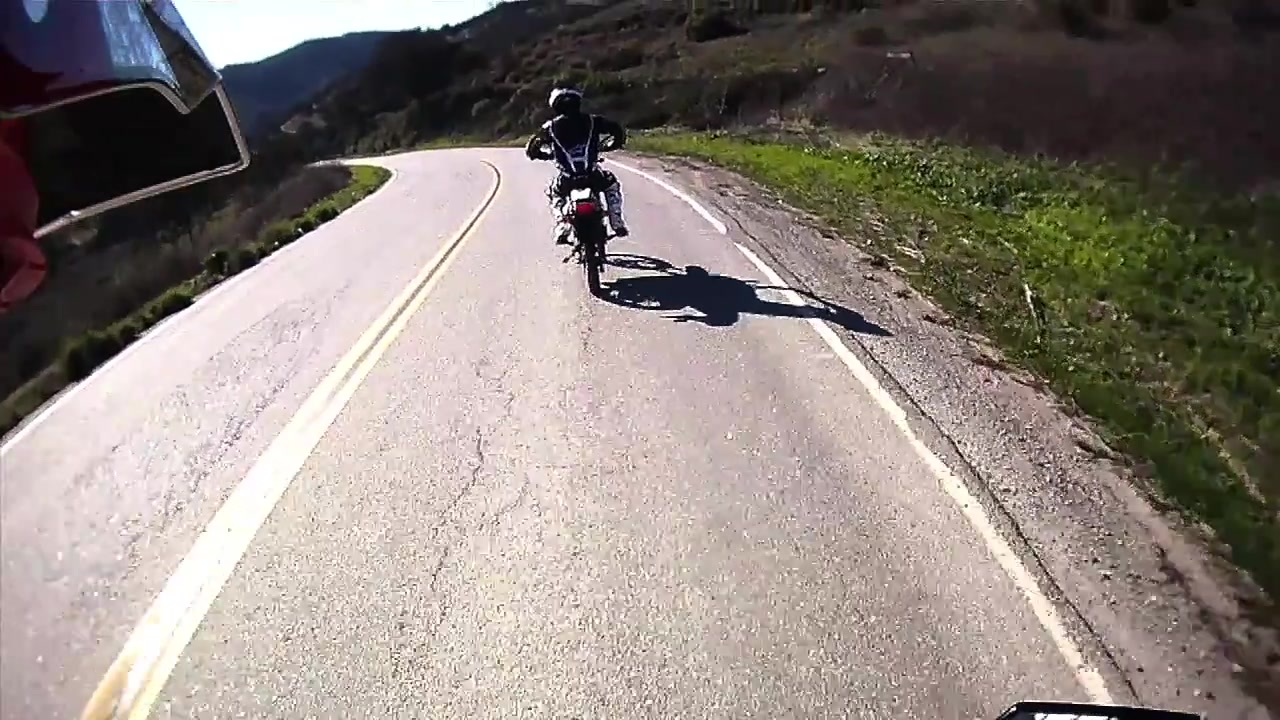motorbike: (530, 144, 627, 289)
